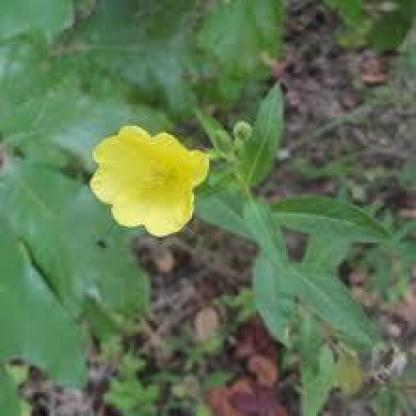other: (82, 117, 212, 232)
